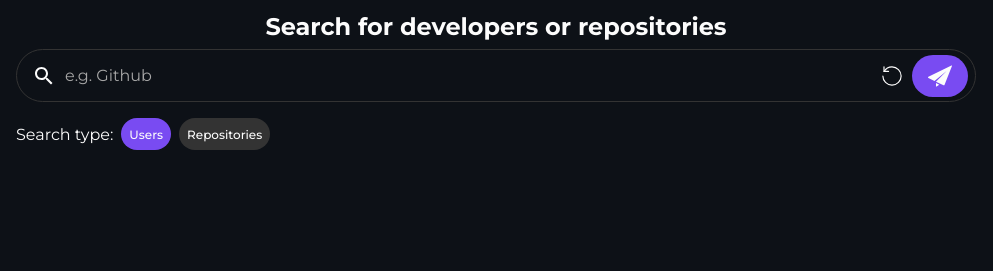
Scenario: Search › should show error message correctly
Type "test" into the field with test id "input" at (496, 76), box [16,49,976,102]
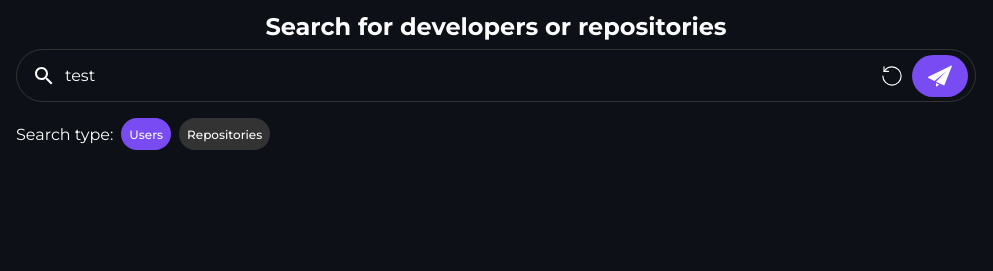
Submit the form with test id "form", box [16,49,976,102]
Wait 2000 ms
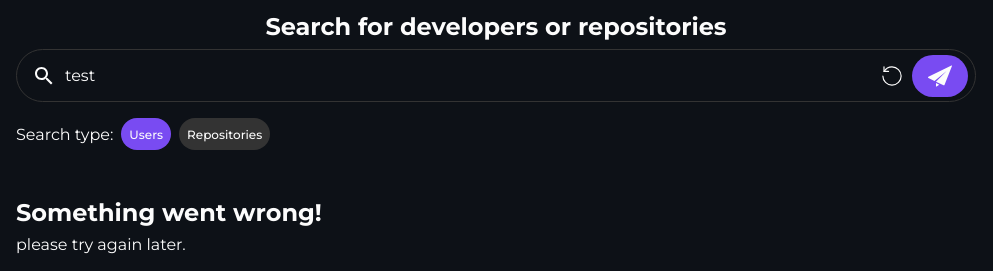
Now the heading "Something went wrong!" is shown, box [16,198,322,227]
